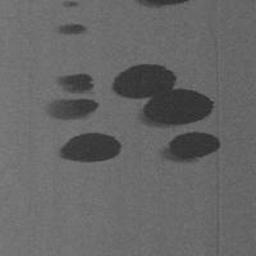Oil spot: (109, 61, 216, 131), (38, 70, 100, 122), (156, 131, 223, 165), (55, 131, 123, 164), (133, 0, 193, 9), (54, 22, 91, 36), (59, 0, 81, 9)
